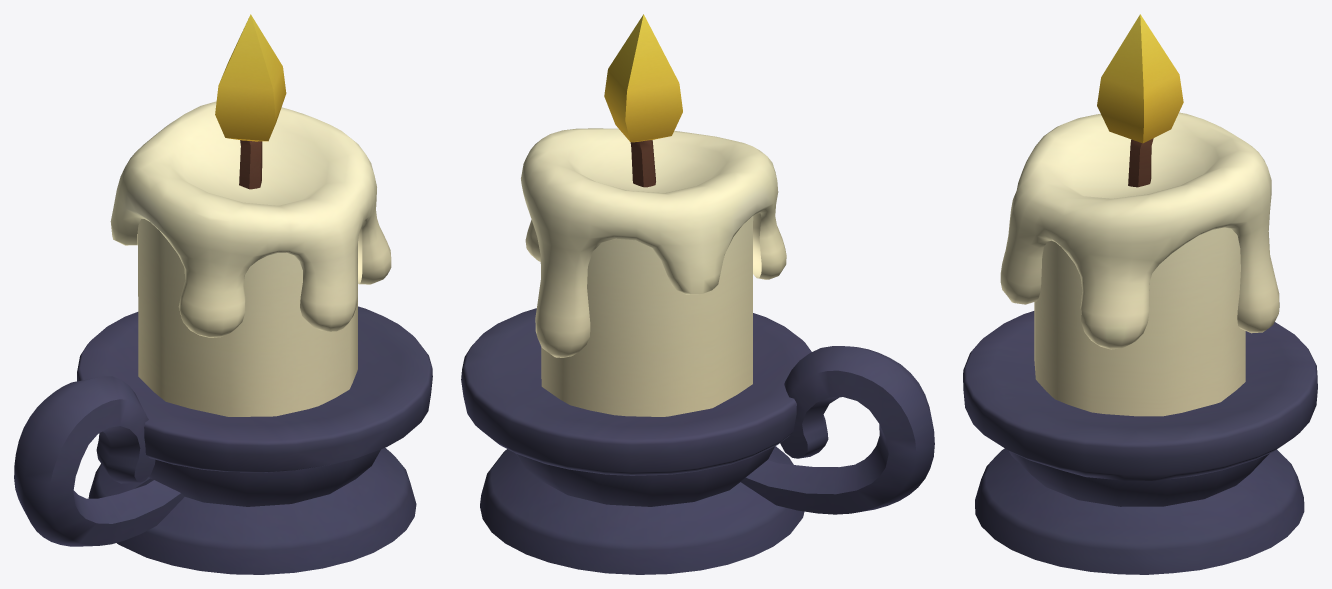
Rendered from WBA_Decoration_Candle_01.fbx.
3 views of the same model, side by side, from view 1: azimuth 30°, elevation 25°; view 2: azimuth 150°, elevation 25°; view 3: azimuth 270°, elevation 25° (orthographic).
Parts seen in each view (by area): view 1: WBA_Decoration_Candle_01; view 2: WBA_Decoration_Candle_01; view 3: WBA_Decoration_Candle_01.
Part boxes in pixels (left/top/right/bottom): WBA_Decoration_Candle_01: left=14, top=14, right=432, bottom=574; WBA_Decoration_Candle_01: left=461, top=14, right=934, bottom=574; WBA_Decoration_Candle_01: left=963, top=14, right=1317, bottom=574.
Bounding box in the file's own units: 20.89 × 23.63 × 15.39.
